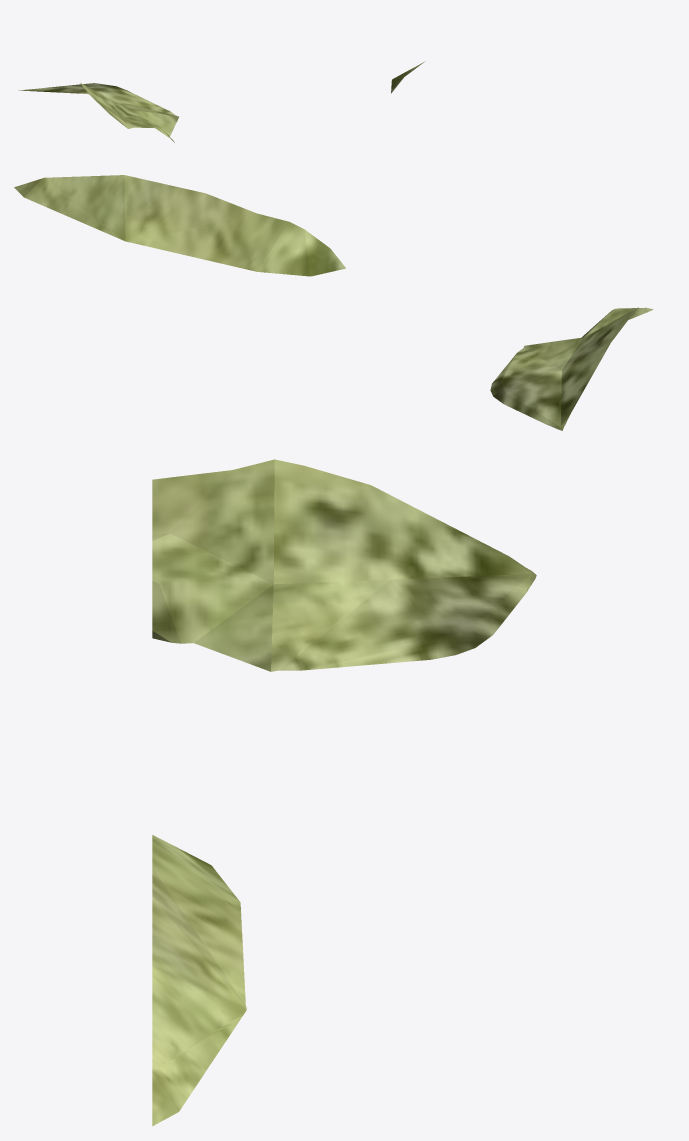
3 renders of one model, top to bottom at view 1: azimuth 30°, elevation 25°; view 2: azimuth 150°, elevation 25°; view 3: azimuth 270°, elevation 25°, orthographic. The views are drawn at different scales.
Bounding box in the file's own units: 2.48 × 0.2426 × 0.7296.
1 material, 1 textured.
